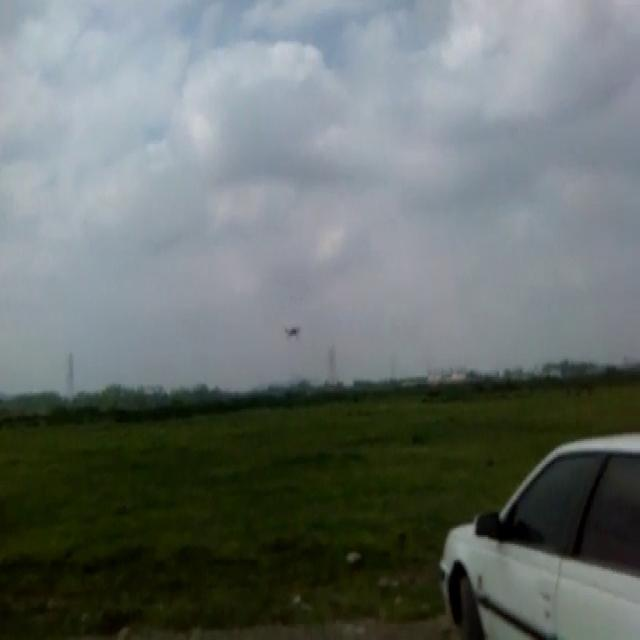drone: (281, 318, 302, 340)
